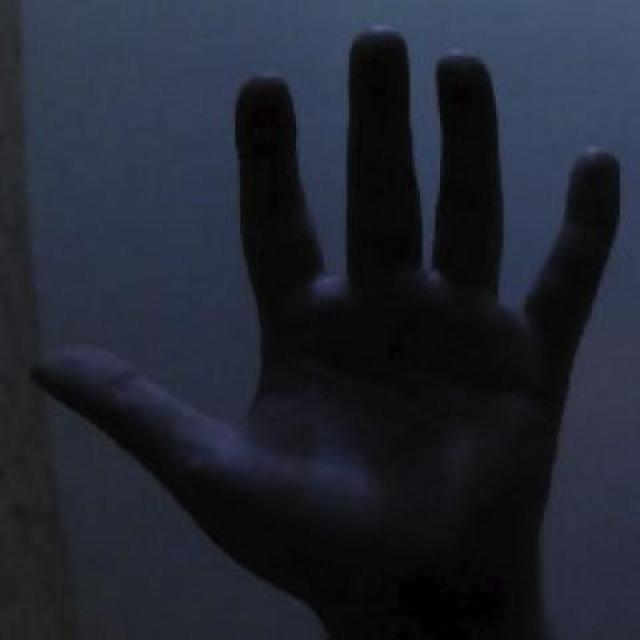Open Hand: (21, 12, 628, 640)
